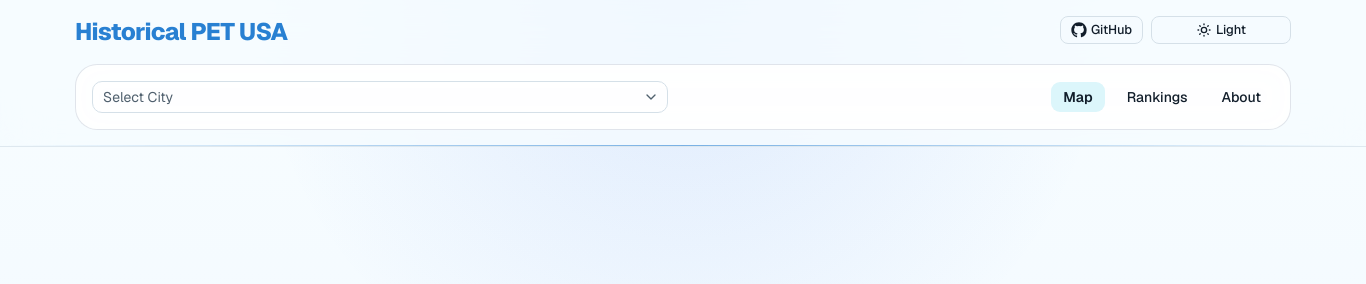
Test: headerBar › edge Cases › should focus the search input so typing works immediately after opening
Click the dropdown with test id "city-selector": (138, 97) [92, 81, 668, 113]
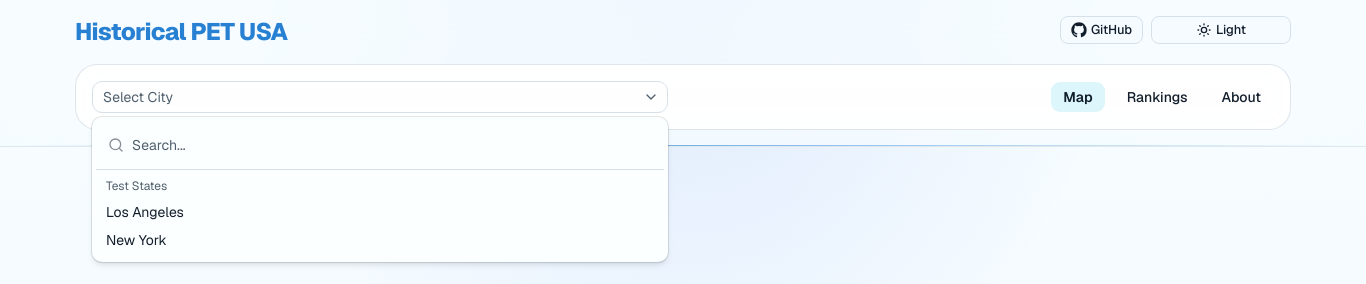
Type keys "los"
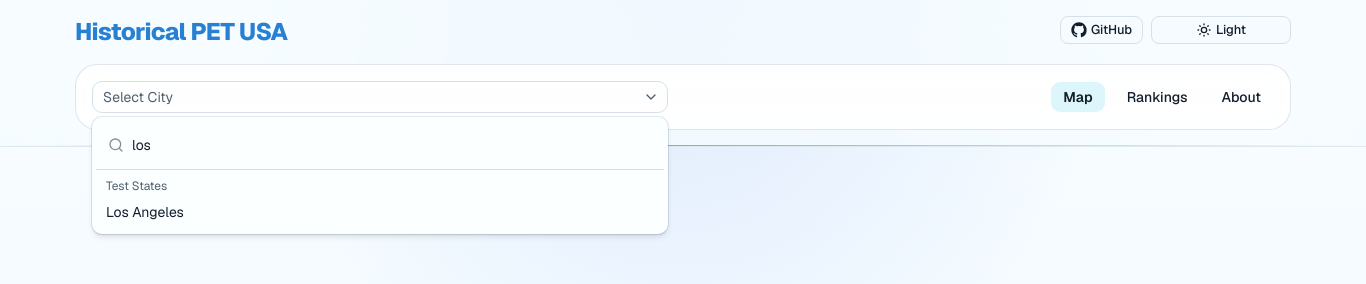
Expected: the option "Los Angeles" is shown, [106, 203, 184, 221]
Expected: the field with placeholder "Search..." holds "los", [132, 129, 652, 161]
Expected: the option "New York" is gone
